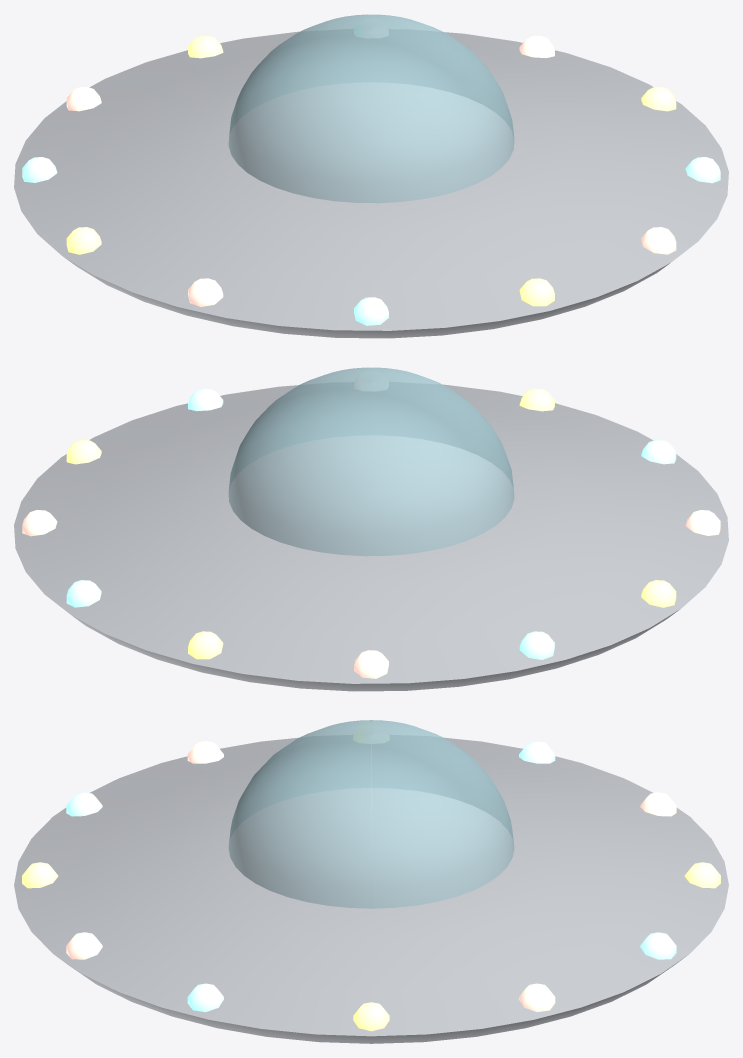
Rendered from ufo.glb.
3 views of the same model, one above another, from view 1: azimuth 30°, elevation 25°; view 2: azimuth 150°, elevation 25°; view 3: azimuth 270°, elevation 25° (orthographic).
Size of the model in its own units: 6 by 2.11 by 6.
